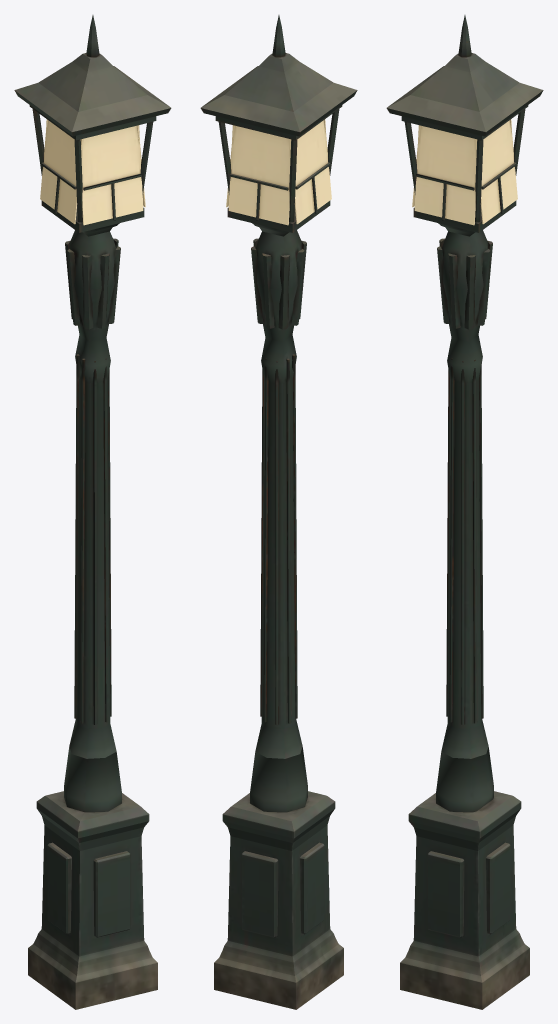
The model's file is street_lamp-low.glb.
3 views of the same model, side by side, from view 1: azimuth 30°, elevation 25°; view 2: azimuth 150°, elevation 25°; view 3: azimuth 330°, elevation 25° (orthographic).
Parts seen in each view (by area): view 1: street_lamp; view 2: street_lamp; view 3: street_lamp.
Part boxes in pixels (<box>): street_lamp: <box>14,15,171,1009</box>; street_lamp: <box>200,15,357,1009</box>; street_lamp: <box>386,15,543,1009</box>.
Bounding box in the file's own units: 0.4597 × 4.27 × 0.4597.
Materials: 2 (2 with a texture image).
